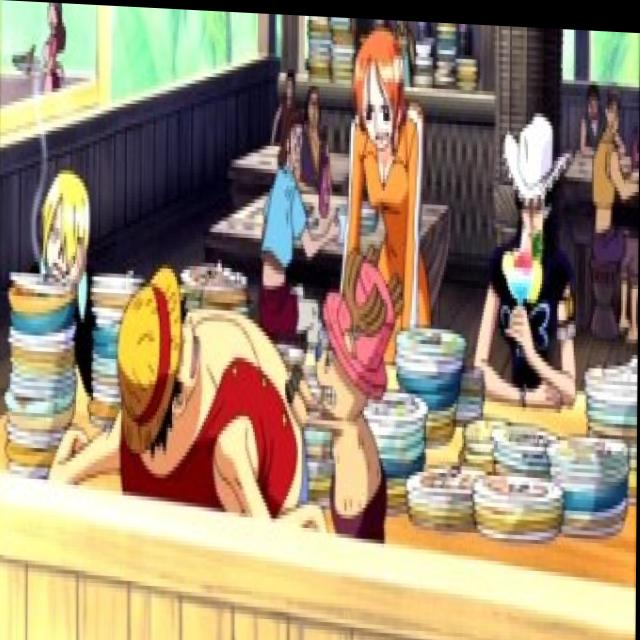Chyopa: (284, 242, 410, 549)
Luffy: (117, 260, 208, 465)
Nami: (350, 18, 409, 154)
Sangdi: (33, 169, 97, 287)
